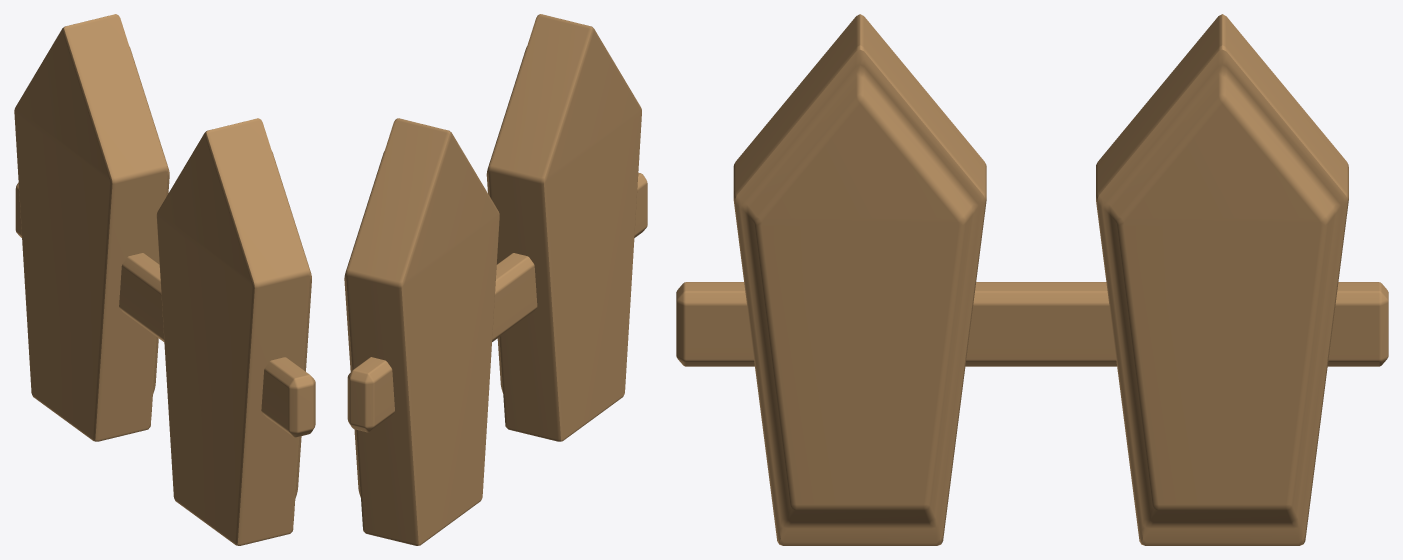
File: Barrière_02.fbx
3 renders of one model, left to right at view 1: azimuth 30°, elevation 25°; view 2: azimuth 150°, elevation 25°; view 3: azimuth 270°, elevation 25°, orthographic. The views are drawn at different scales.
Visible parts, largest first — view 1: Barriere_02; view 2: Barriere_02; view 3: Barriere_02.
Part boxes in pixels (left/top/right/bottom): Barriere_02: left=14, top=14, right=315, bottom=545; Barriere_02: left=344, top=14, right=647, bottom=545; Barriere_02: left=676, top=14, right=1388, bottom=545.
Size of the model in its own units: 19.91 by 111 by 143.
